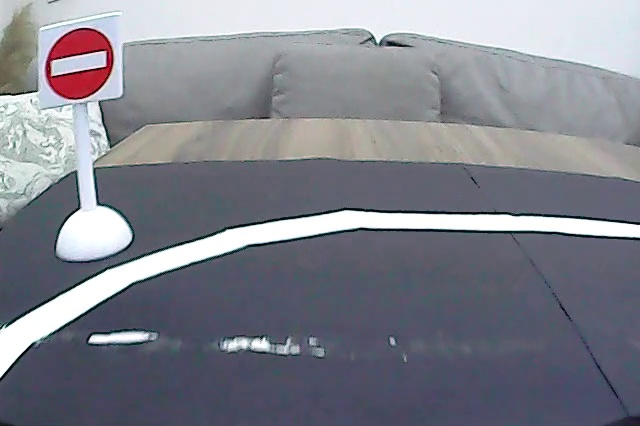do not enter: (41, 24, 118, 104)
